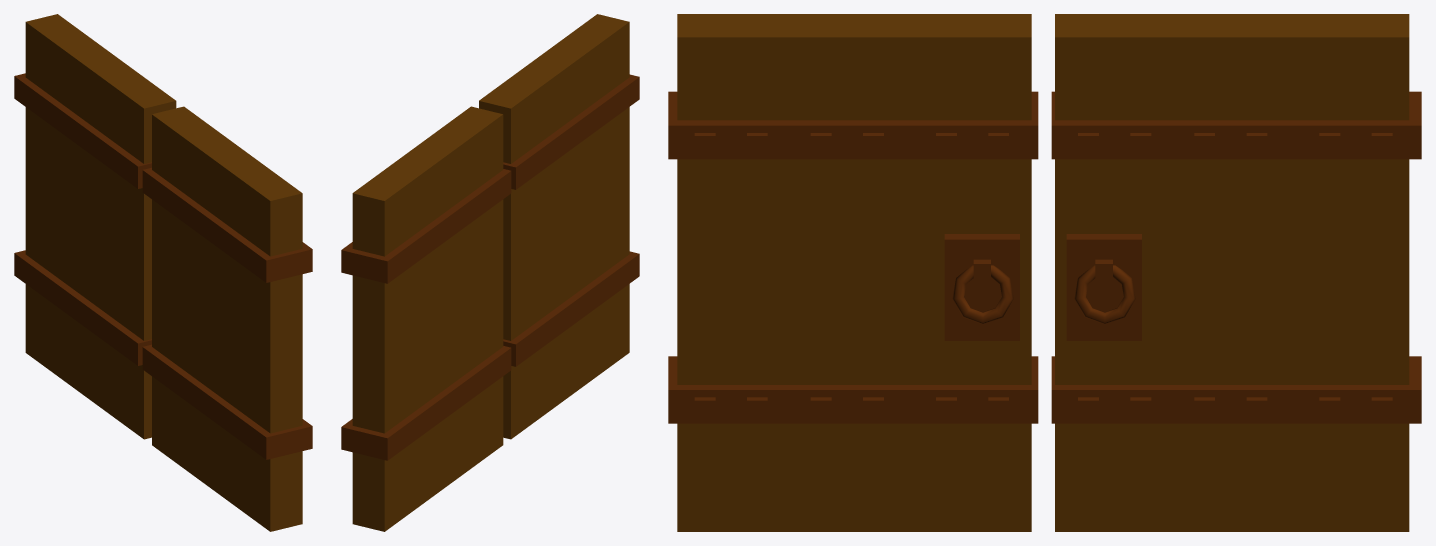
File: mannor_door_inside.fbx
3 renders of one model, left to right at view 1: azimuth 30°, elevation 25°; view 2: azimuth 150°, elevation 25°; view 3: azimuth 270°, elevation 25°, orthographic. The views are drawn at different scales.
Visible parts, largest first — view 1: Cube.007; view 2: Cube.007; view 3: Cube.007.
Part boxes in pixels (bbox=[...]): Cube.007: bbox=[14, 14, 312, 531]; Cube.007: bbox=[341, 14, 639, 531]; Cube.007: bbox=[668, 14, 1421, 531].
Size of the model in its own units: 99.57 by 533 by 736.
